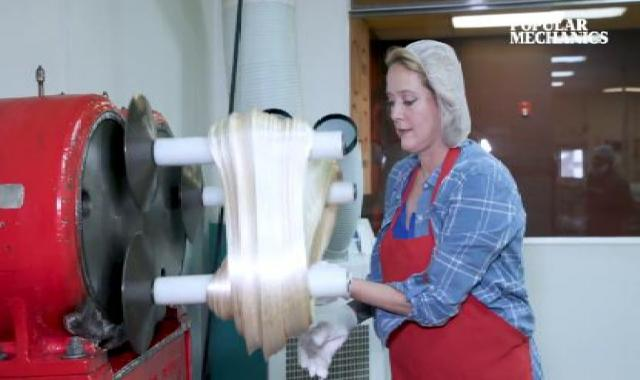hairnet: (391, 36, 472, 144)
